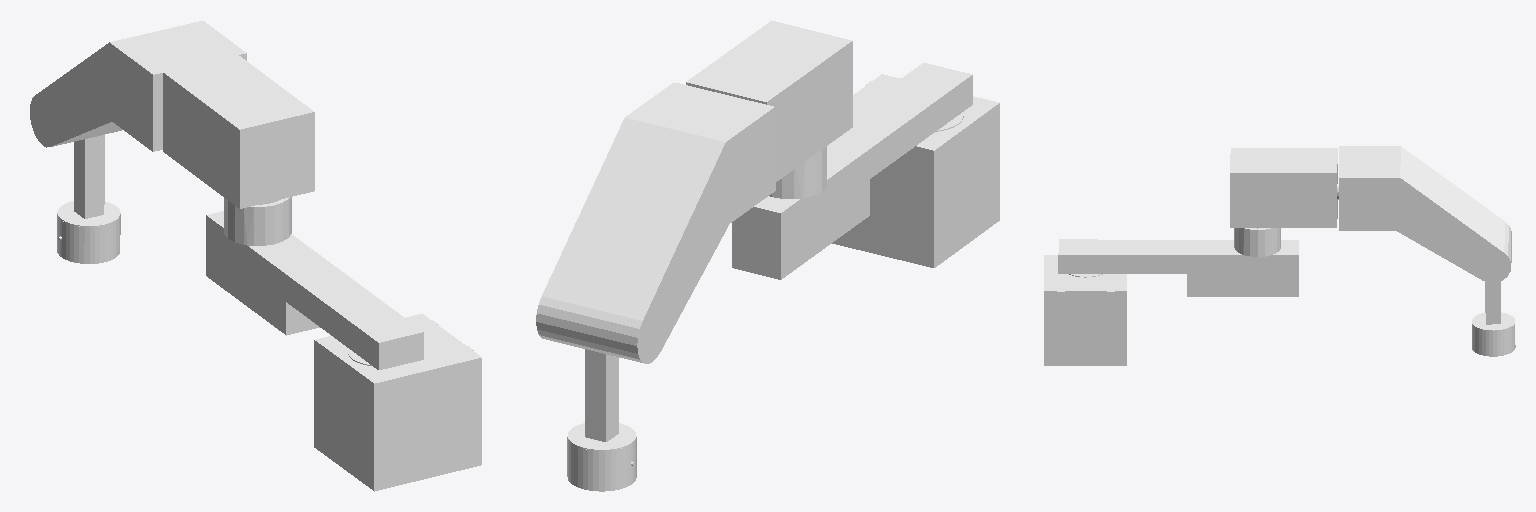
URDF robot description (engineering_robot):
<?xml version="1.0" encoding="utf-8"?>
<!-- This URDF was automatically created by SolidWorks to URDF Exporter! Originally created by [author] ([email redacted]) 
     Commit Version: 1.6.0-4-g7f85cfe  Build Version: 1.6.7995.38578
     For more information, please see http://wiki.ros.org/sw_urdf_exporter -->
<robot
  name="engineering_robot">
  <link
    name="robot_base_link">
    <inertial>
      <origin
        xyz="0.155590243322747 0.293133124963192 0.0106360683329465"
        rpy="0 0 0" />
      <mass
        value="11.7630413668717" />
      <inertia
        ixx="0.147316977305977"
        ixy="9.42802725368792E-05"
        ixz="-0.00722417352322622"
        iyy="0.182748117105339"
        iyz="3.51518193258288E-05"
        izz="0.0992714187254383" />
    </inertial>
    <visual>
      <origin
        xyz="0 0 0"
        rpy="0 0 0" />
      <geometry>
        <mesh
          filename="package://engineering_robot/meshes/robot_base_link.STL" />
      </geometry>
      <material
        name="">
        <color
          rgba="0.498039215686275 0.498039215686275 0.498039215686275 1" />
      </material>
    </visual>
    <collision>
      <origin
        xyz="0 0 0"
        rpy="0 0 0" />
      <geometry>
        <mesh
          filename="package://engineering_robot/meshes/robot_base_link.STL" />
      </geometry>
    </collision>
  </link>
  <link
    name="J1_link">
    <inertial>
      <origin
        xyz="0.0170557127432564 0 -0.0533780909329666"
        rpy="0 0 0" />
      <mass
        value="1.22922743338823" />
      <inertia
        ixx="0.00228376952496172"
        ixy="-8.55375599776557E-19"
        ixz="2.55586625853056E-06"
        iyy="0.00237709991279989"
        iyz="-4.05937316862657E-19"
        izz="0.00239151098286287" />
    </inertial>
    <visual>
      <origin
        xyz="0 0 0"
        rpy="0 0 0" />
      <geometry>
        <mesh
          filename="package://engineering_robot/meshes/J1_link.STL" />
      </geometry>
      <material
        name="">
        <color
          rgba="1 1 1 1" />
      </material>
    </visual>
    <collision>
      <origin
        xyz="0 0 0"
        rpy="0 0 0" />
      <geometry>
        <mesh
          filename="package://engineering_robot/meshes/J1_link.STL" />
      </geometry>
    </collision>
  </link>
  <joint
    name="J1J"
    type="prismatic">
    <origin
      xyz="0.051 0.398 -0.041"
      rpy="0 0 0" />
    <parent
      link="robot_base_link" />
    <child
      link="J1_link" />
    <axis
      xyz="0 0 -1" />
    <limit
      lower="-0.46"
      upper="0"
      effort="0"
      velocity="0.045" />
  </joint>
  <link
    name="J2_link">
    <inertial>
      <origin
        xyz="0.000686233806535763 0.159079888637534 0.0104164195334357"
        rpy="0 0 0" />
      <mass
        value="0.70345662801813" />
      <inertia
        ixx="0.00514081673198821"
        ixy="-1.8588997731421E-05"
        ixz="3.28019745043418E-06"
        iyy="0.000475324096681043"
        iyz="5.49168096321361E-05"
        izz="0.00492418484058409" />
    </inertial>
    <visual>
      <origin
        xyz="0 0 0"
        rpy="0 0 0" />
      <geometry>
        <mesh
          filename="package://engineering_robot/meshes/J2_link.STL" />
      </geometry>
      <material
        name="">
        <color
          rgba="1 1 1 1" />
      </material>
    </visual>
    <collision>
      <origin
        xyz="0 0 0"
        rpy="0 0 0" />
      <geometry>
        <mesh
          filename="package://engineering_robot/meshes/J2_link.STL" />
      </geometry>
    </collision>
  </link>
  <joint
    name="J2J"
    type="revolute">
    <origin
      xyz="0 0 0"
      rpy="0 0 0" />
    <parent
      link="J1_link" />
    <child
      link="J2_link" />
    <axis
      xyz="0 0 -1" />
    <limit
      lower="-1.844444444444444"
      upper="1.653"
      effort="0"
      velocity="5" />
  </joint>
  <link
    name="J3_link">
    <inertial>
      <origin
        xyz="0.000148092541115197 0.0329978435837919 0.0449929560250196"
        rpy="0 0 0" />
      <mass
        value="0.820340126206514" />
      <inertia
        ixx="0.00170767677242616"
        ixy="-3.99921743899093E-06"
        ixz="-8.5896123840817E-08"
        iyy="0.000816592775147115"
        iyz="-1.91392951840019E-05"
        izz="0.00167129684639323" />
    </inertial>
    <visual>
      <origin
        xyz="0 0 0"
        rpy="0 0 0" />
      <geometry>
        <mesh
          filename="package://engineering_robot/meshes/J3_link.STL" />
      </geometry>
      <material
        name="">
        <color
          rgba="1 1 1 1" />
      </material>
    </visual>
    <collision>
      <origin
        xyz="0 0 0"
        rpy="0 0 0" />
      <geometry>
        <mesh
          filename="package://engineering_robot/meshes/J3_link.STL" />
      </geometry>
    </collision>
  </link>
  <joint
    name="J3J"
    type="revolute">
    <origin
      xyz="0.00034388 0.2195 0.066"
      rpy="0 0 -0.0050473" />
    <parent
      link="J2_link" />
    <child
      link="J3_link" />
    <axis
      xyz="0 0 -1" />
    <limit
      lower="-3.14"
      upper="3.14"
      effort="0"
      velocity="5" />
  </joint>
  <link
    name="J4_link">
    <inertial>
      <origin
        xyz="-0.00015932719535583 0.102473055630709 -0.0280486188447524"
        rpy="0 0 0" />
      <mass
        value="1.4197918033911" />
      <inertia
        ixx="0.00709661745878668"
        ixy="1.41994815377499E-05"
        ixz="-4.82336802160085E-06"
        iyy="0.00298377285968965"
        iyz="0.00249973549434745"
        izz="0.00624751918942263" />
    </inertial>
    <visual>
      <origin
        xyz="0 0 0"
        rpy="0 0 0" />
      <geometry>
        <mesh
          filename="package://engineering_robot/meshes/J4_link.STL" />
      </geometry>
      <material
        name="">
        <color
          rgba="1 1 1 1" />
      </material>
    </visual>
    <collision>
      <origin
        xyz="0 0 0"
        rpy="0 0 0" />
      <geometry>
        <mesh
          filename="package://engineering_robot/meshes/J4_link.STL" />
      </geometry>
    </collision>
  </link>
  <joint
    name="J4J"
    type="revolute">
    <origin
      xyz="0.00046225 0.103 0.0457"
      rpy="0 0 -0.0044879" />
    <parent
      link="J3_link" />
    <child
      link="J4_link" />
    <axis
      xyz="0 -1 0" />
    <limit
      lower="-3.1416"
      upper="3.1416"
      effort="0"
      velocity="5" />
  </joint>
  <link
    name="J5_x_link">
    <inertial>
      <origin
        xyz="-1.93850036374066E-05 1.90819582357449E-17 -0.0528314659407941"
        rpy="0 0 0" />
      <mass
        value="0.0425415484567542" />
      <inertia
        ixx="4.12871766090271E-05"
        ixy="5.55865371635635E-22"
        ixz="4.35684231354939E-08"
        iyy="4.12953353087176E-05"
        iyz="1.28507678038941E-21"
        izz="3.64130650110381E-06" />
    </inertial>
    <visual>
      <origin
        xyz="0 0 0"
        rpy="0 0 0" />
      <geometry>
        <mesh
          filename="package://engineering_robot/meshes/J5_x_link.STL" />
      </geometry>
      <material
        name="">
        <color
          rgba="1 1 1 1" />
      </material>
    </visual>
    <collision>
      <origin
        xyz="0 0 0"
        rpy="0 0 0" />
      <geometry>
        <mesh
          filename="package://engineering_robot/meshes/J5_x_link.STL" />
      </geometry>
    </collision>
  </link>
  <joint
    name="J5_xJ"
    type="revolute">
    <origin
      xyz="-0.00049488 0.19759 -0.08712"
      rpy="0.0060187 0.0056803 0" />
    <parent
      link="J4_link" />
    <child
      link="J5_x_link" />
    <axis
      xyz="1 0 0" />
    <limit
      lower="-3.1416"
      upper="3.1416"
      effort="0"
      velocity="5" />
  </joint>
  <link
    name="J5_z_link">
    <inertial>
      <origin
        xyz="-1.93850036374066E-05 1.73472347597681E-17 -0.0528314659407941"
        rpy="0 0 0" />
      <mass
        value="0.0425415484567542" />
      <inertia
        ixx="4.12871766090271E-05"
        ixy="5.55865371635635E-22"
        ixz="4.35684231354939E-08"
        iyy="4.12953353087176E-05"
        iyz="1.29805317624884E-21"
        izz="3.64130650110381E-06" />
    </inertial>
    <visual>
      <origin
        xyz="0 0 0"
        rpy="0 0 0" />
      <geometry>
        <mesh
          filename="package://engineering_robot/meshes/J5_z_link.STL" />
      </geometry>
      <material
        name="">
        <color
          rgba="1 1 1 1" />
      </material>
    </visual>
    <collision>
      <origin
        xyz="0 0 0"
        rpy="0 0 0" />
      <geometry>
        <mesh
          filename="package://engineering_robot/meshes/J5_z_link.STL" />
      </geometry>
    </collision>
  </link>
  <joint
    name="J5_zJ"
    type="revolute">
    <origin
      xyz="0 0 0"
      rpy="0 0 0" />
    <parent
      link="J5_x_link" />
    <child
      link="J5_z_link" />
    <axis
      xyz="0 0 -1" />
    <limit
      lower="-3.1416"
      upper="3.1416"
      effort="0"
      velocity="5" />
  </joint>
  <link
    name="end_link">
    <inertial>
      <origin
        xyz="-4.64976515557325E-06 -6.55420716033639E-08 -0.0180000808009292"
        rpy="0 0 0" />
      <mass
        value="0.0886825393828937" />
      <inertia
        ixx="2.69551885454754E-05"
        ixy="-1.68463235656203E-10"
        ixz="-2.07669361107604E-10"
        iyy="2.69671332383759E-05"
        iyz="-2.92743984672527E-12"
        izz="3.4769943391664E-05" />
    </inertial>
    <visual>
      <origin
        xyz="0 0 0"
        rpy="0 0 0" />
      <geometry>
        <mesh
          filename="package://engineering_robot/meshes/end_link.STL" />
      </geometry>
      <material
        name="">
        <color
          rgba="1 1 1 1" />
      </material>
    </visual>
    <collision>
      <origin
        xyz="0 0 0"
        rpy="0 0 0" />
      <geometry>
        <mesh
          filename="package://engineering_robot/meshes/end_link.STL" />
      </geometry>
    </collision>
  </link>
  <joint
    name="end"
    type="fixed">
    <origin
      xyz="0 0 -0.137"
      rpy="-3.1416 0 0" />
    <parent
      link="J5_z_link" />
    <child
      link="end_link" />
    <axis
      xyz="0 0 0" />
  </joint>
  <link
    name="mine_link">
  </link>
  <joint
    name="mine"
    type="fixed">
    <origin
      xyz="0 0 0.083"
      rpy="0 0 0" />
    <parent
      link="end_link" />
    <child
      link="mine_link" />
    <axis
      xyz="0 0 0" />
  </joint>
</robot>

--- Render facts (derived) ---
3 views of the same robot in one strip: view 1: azimuth 30°, elevation 25°; view 2: azimuth 150°, elevation 25°; view 3: azimuth 270°, elevation 25° (orthographic).
Robot: engineering_robot — 9 links, 8 joints (5 revolute, 1 prismatic, 2 fixed); root link robot_base_link; default pose: every joint at zero.
Visible links, largest first — view 1: J1_link, J3_link, J2_link, J4_link, J5_z_link, end_link; view 2: J4_link, J2_link, J1_link, J3_link, J5_z_link, end_link; view 3: J4_link, J2_link, J3_link, J1_link, J5_z_link, end_link.
Boxes of the visible links, left/top/right/bottom form: J1_link: left=314, top=314, right=481, bottom=491; J3_link: left=163, top=55, right=314, bottom=208; J2_link: left=206, top=197, right=423, bottom=369; J4_link: left=30, top=21, right=246, bottom=151; J5_z_link: left=57, top=135, right=120, bottom=226; end_link: left=57, top=215, right=120, bottom=263; J4_link: left=536, top=82, right=775, bottom=363; J2_link: left=732, top=63, right=972, bottom=279; J1_link: left=832, top=74, right=999, bottom=267; J3_link: left=686, top=21, right=852, bottom=181; J5_z_link: left=567, top=349, right=635, bottom=450; end_link: left=567, top=436, right=636, bottom=491; J4_link: left=1338, top=146, right=1511, bottom=282; J2_link: left=1058, top=228, right=1298, bottom=296; J3_link: left=1230, top=148, right=1337, bottom=228; J1_link: left=1044, top=255, right=1126, bottom=365; J5_z_link: left=1472, top=282, right=1514, bottom=330; end_link: left=1472, top=324, right=1515, bottom=356.
Bounding box of the posed robot: 0.1194 × 0.6019 × 0.263 m (x, y, z).
Meshes: 8 distinct files referenced, 6 mesh visuals loaded (6 binary STL); not drawn: 2 (reference not matched to a file when rendering).